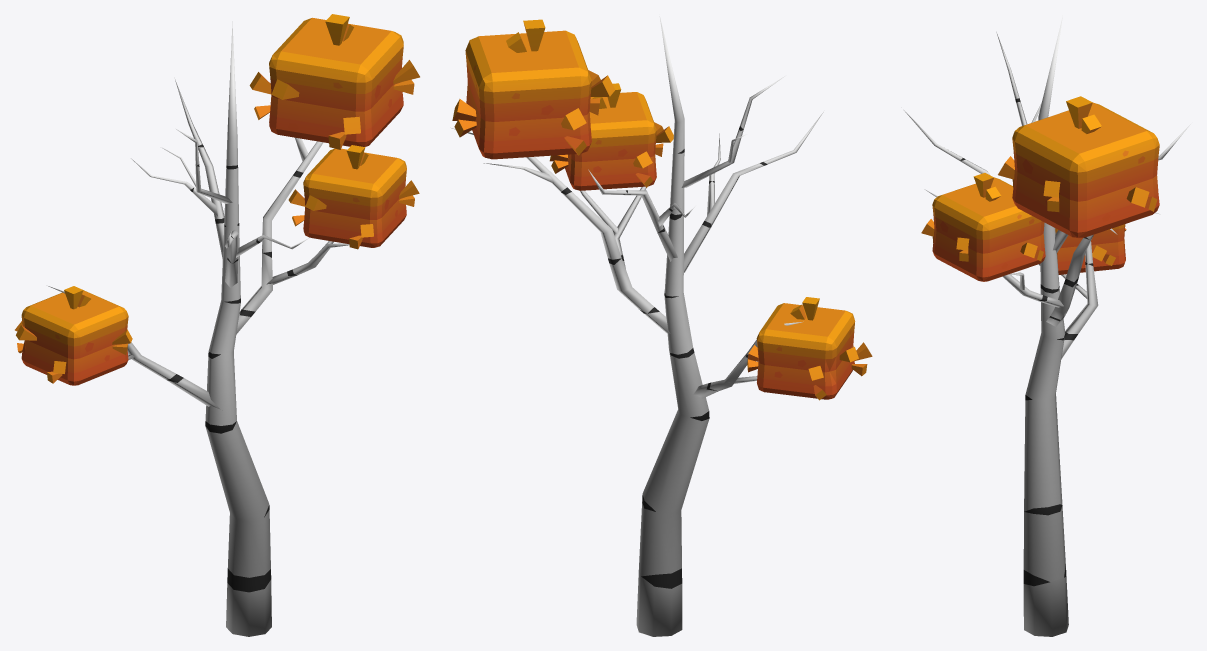
Rendered from birch4.glb.
3 renders of one model, left to right at view 1: azimuth 30°, elevation 25°; view 2: azimuth 150°, elevation 25°; view 3: azimuth 270°, elevation 25°, orthographic. The views are drawn at different scales.
Parts seen in each view (by area): view 1: birch4; view 2: birch4; view 3: birch4.
Part boxes in pixels (left/top/right/bottom): birch4: left=15, top=14, right=419, bottom=636; birch4: left=451, top=16, right=872, bottom=636; birch4: left=904, top=15, right=1190, bottom=636.
Size of the model in its own units: 4.4 by 6.57 by 2.85.
1 material, 1 textured.
